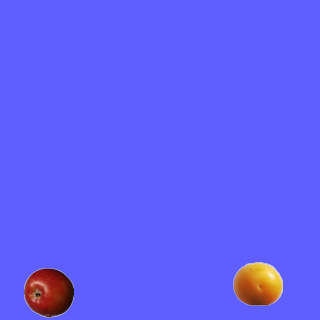Apple Braeburn: (23, 267, 73, 317)
Cherry Wax Yellow: (232, 258, 282, 308)
